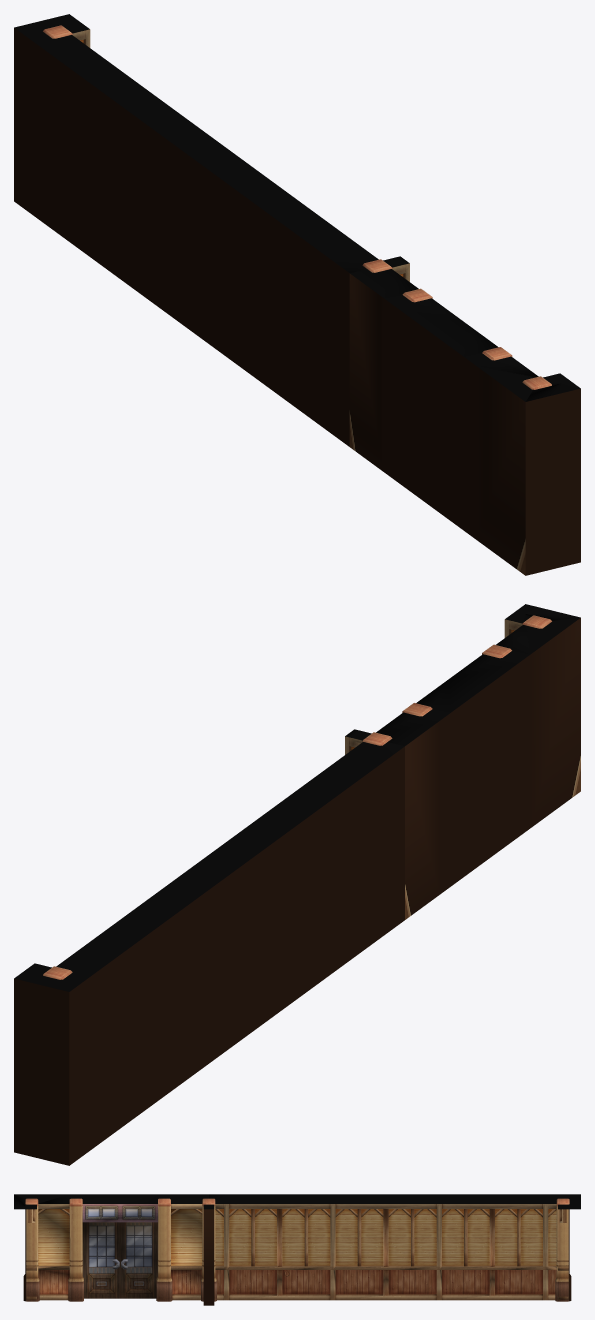
Rendered from s_SWGclass01a_1.glb.
3 renders of one model, top to bottom at view 1: azimuth 30°, elevation 25°; view 2: azimuth 150°, elevation 25°; view 3: azimuth 270°, elevation 25°, orthographic. The views are drawn at different scales.
Visible parts, largest first — view 1: s_SWGclass01a_1; view 2: s_SWGclass01a_1; view 3: s_SWGclass01a_1.
Part boxes in pixels (<box>): s_SWGclass01a_1: <box>14,14,580,575</box>; s_SWGclass01a_1: <box>14,604,580,1165</box>; s_SWGclass01a_1: <box>14,1194,580,1305</box>.
Size of the model in its own units: 1 by 3.03 by 16.
Materials: 4 (4 with a texture image).
